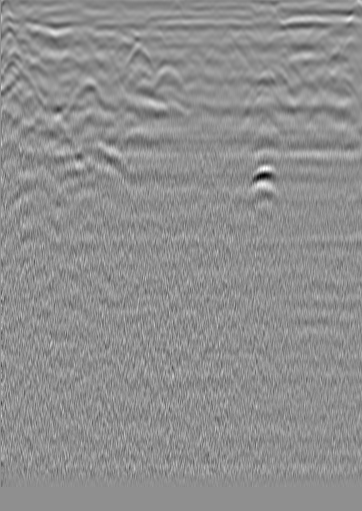가스: (243, 159, 283, 194)
상수: (0, 21, 20, 41)
오수: (318, 21, 338, 41)
우수: (144, 19, 164, 39)
